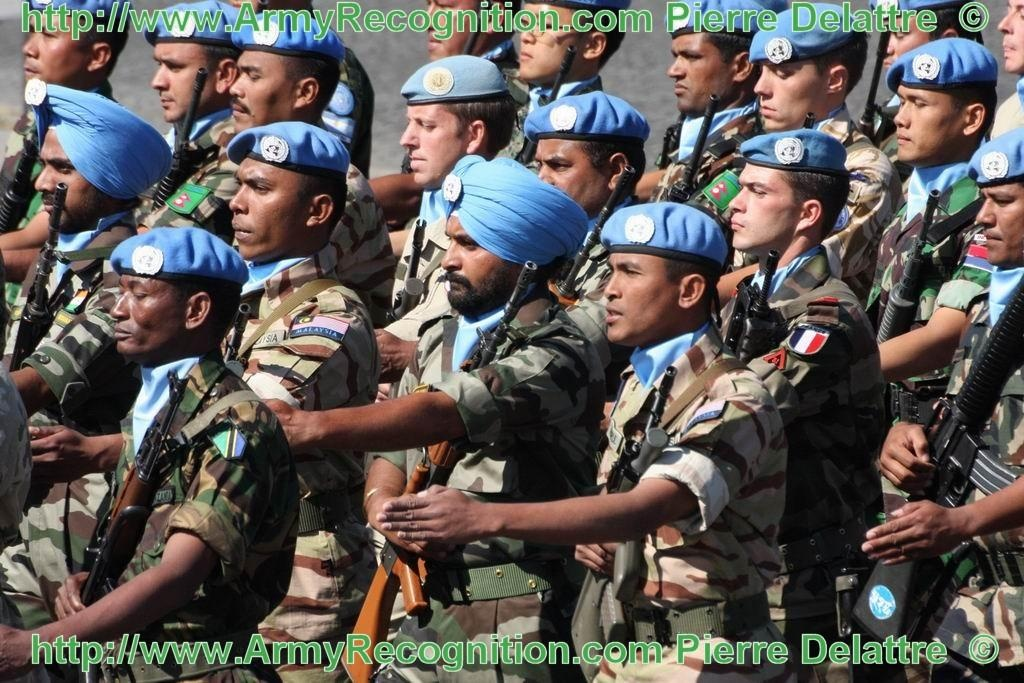human_face: (229, 164, 309, 258), (440, 212, 518, 308), (603, 249, 677, 343), (34, 128, 100, 230), (108, 266, 184, 354), (726, 162, 796, 248), (229, 50, 293, 142), (666, 28, 736, 112), (399, 102, 469, 185), (22, 8, 90, 93), (754, 48, 826, 128), (894, 78, 960, 160), (535, 136, 607, 208), (520, 0, 584, 80), (976, 156, 1024, 262), (150, 44, 214, 123), (426, 0, 504, 60), (882, 6, 940, 86), (996, 0, 1024, 72)
